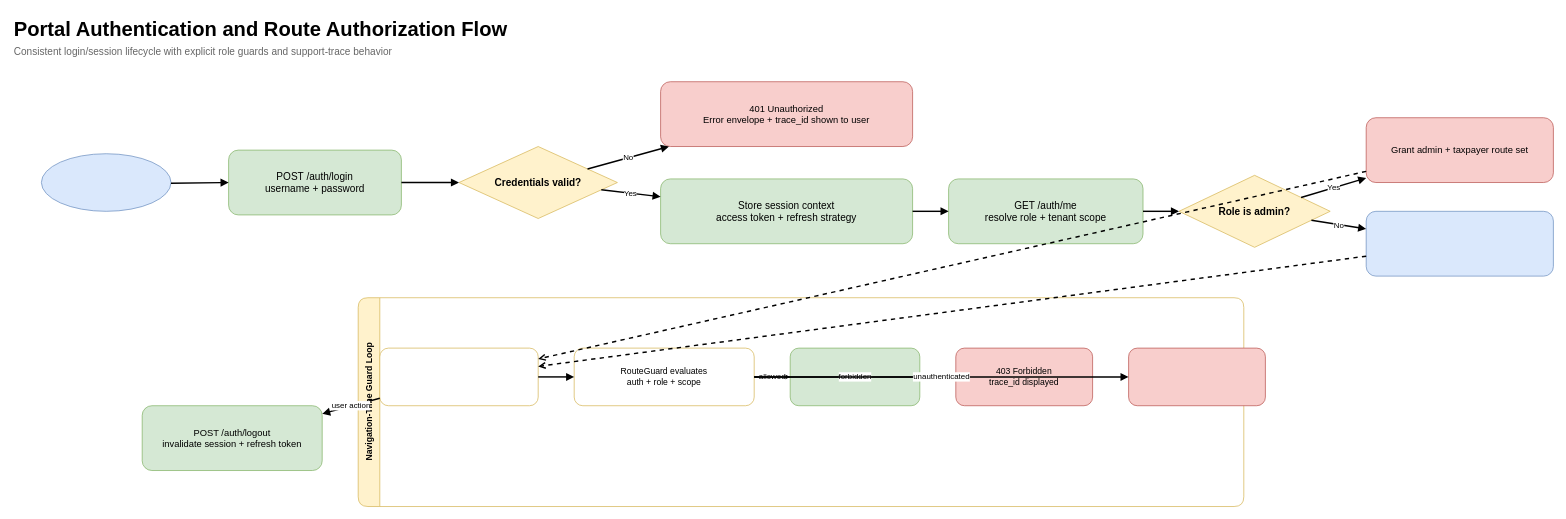
This 1566x519 diagram has some shape labels left out. Each missing label, with the centre of its shape:
"401 Unauthenticated redirect to /login" goes at [1196,376].
"Allow route" goes at [854,376].
"Grant taxpayer route set deny /admin/*" goes at [1459,243].
"User opens /login" goes at [106,182].
"User requests route" goes at [458,376].
